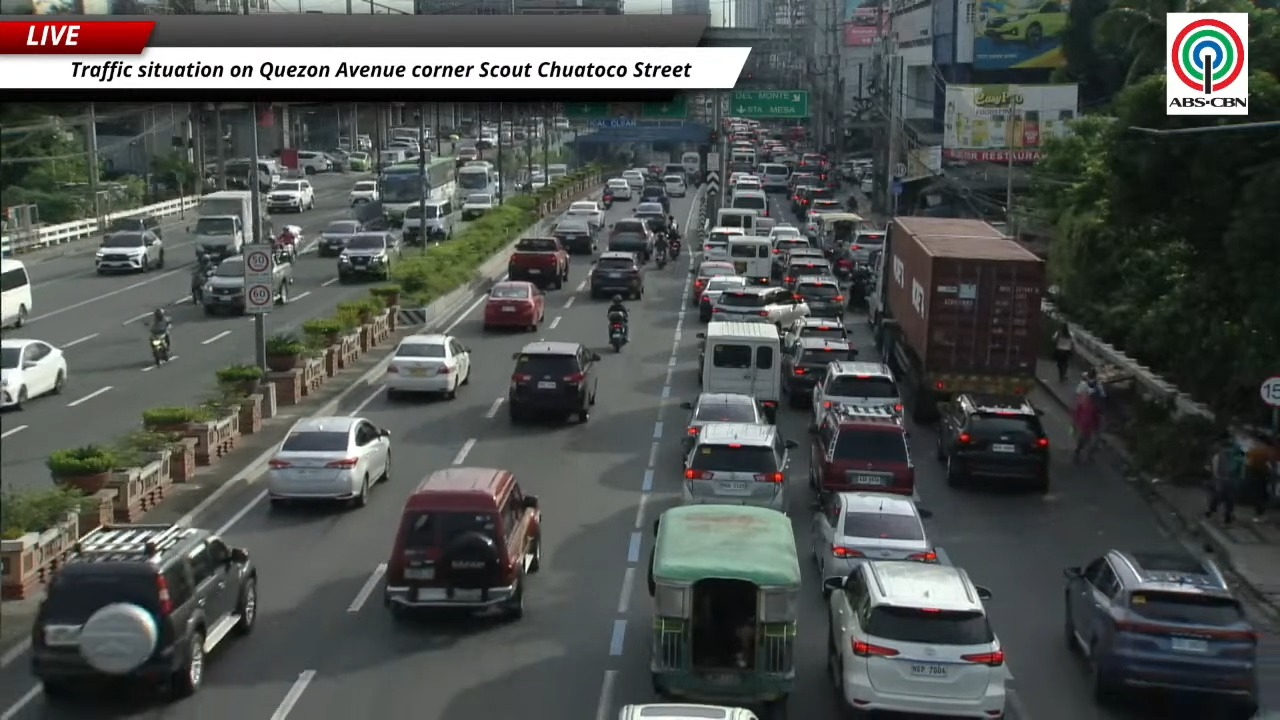bus: (379, 158, 456, 225), (0, 258, 32, 326), (455, 161, 498, 205)
car: (30, 524, 257, 700), (1064, 548, 1259, 719), (823, 560, 1006, 718), (384, 467, 540, 618), (267, 416, 390, 506), (937, 394, 1049, 492), (811, 492, 937, 578), (682, 422, 797, 511), (809, 405, 914, 496), (507, 341, 599, 423), (384, 334, 471, 398), (681, 392, 767, 455), (812, 360, 901, 420), (782, 338, 855, 407), (0, 338, 67, 409), (982, 0, 1068, 47), (712, 286, 808, 326), (338, 232, 401, 282), (482, 280, 544, 330), (95, 231, 164, 274), (588, 251, 644, 299), (791, 275, 847, 318), (698, 275, 748, 322), (618, 703, 757, 719), (782, 317, 847, 351), (690, 260, 737, 305), (782, 251, 833, 292), (606, 218, 654, 261), (771, 234, 815, 279), (551, 217, 596, 254), (316, 220, 361, 256), (699, 227, 745, 261), (266, 180, 314, 212), (805, 200, 844, 237), (103, 214, 162, 237), (849, 229, 885, 263), (633, 199, 668, 233), (565, 201, 605, 230), (790, 177, 816, 217), (460, 193, 495, 220), (638, 184, 669, 214), (297, 150, 334, 174), (788, 172, 816, 202), (768, 224, 802, 245), (349, 180, 378, 204), (621, 169, 646, 192), (606, 178, 632, 200), (733, 175, 762, 193), (663, 175, 686, 197), (754, 216, 777, 237), (346, 151, 370, 171), (727, 172, 753, 189), (474, 132, 497, 150), (456, 147, 479, 161), (859, 177, 874, 195)
motorcycle: (191, 257, 216, 305), (274, 226, 302, 262), (608, 313, 627, 351), (149, 332, 169, 365), (669, 236, 681, 259), (656, 251, 666, 269), (602, 194, 613, 210)
truck: (870, 216, 1046, 422), (189, 190, 272, 260), (508, 237, 569, 288), (200, 255, 245, 314)
